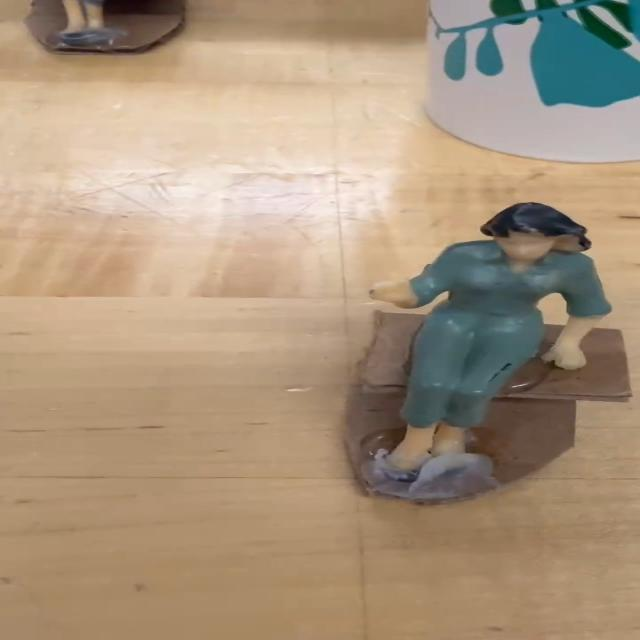Authorized: (356, 198, 616, 487)
